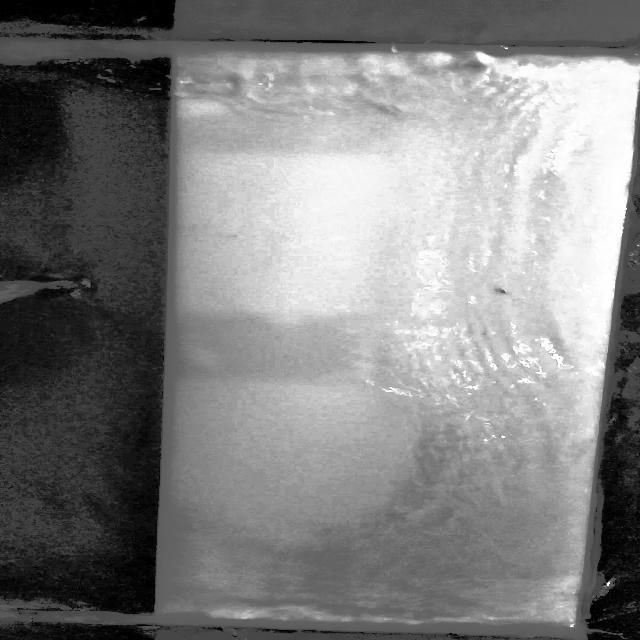shrimp: (486, 281, 523, 303)
